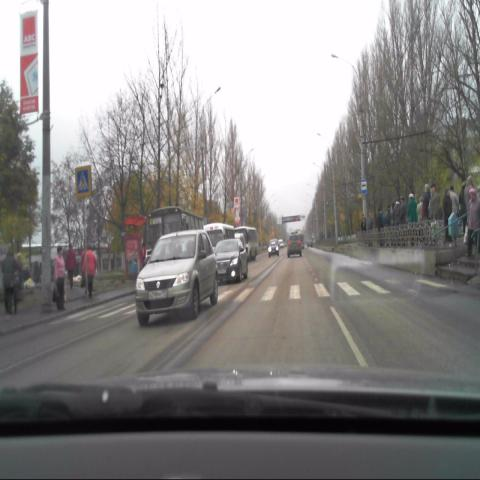5_16: (360, 178, 369, 195)
